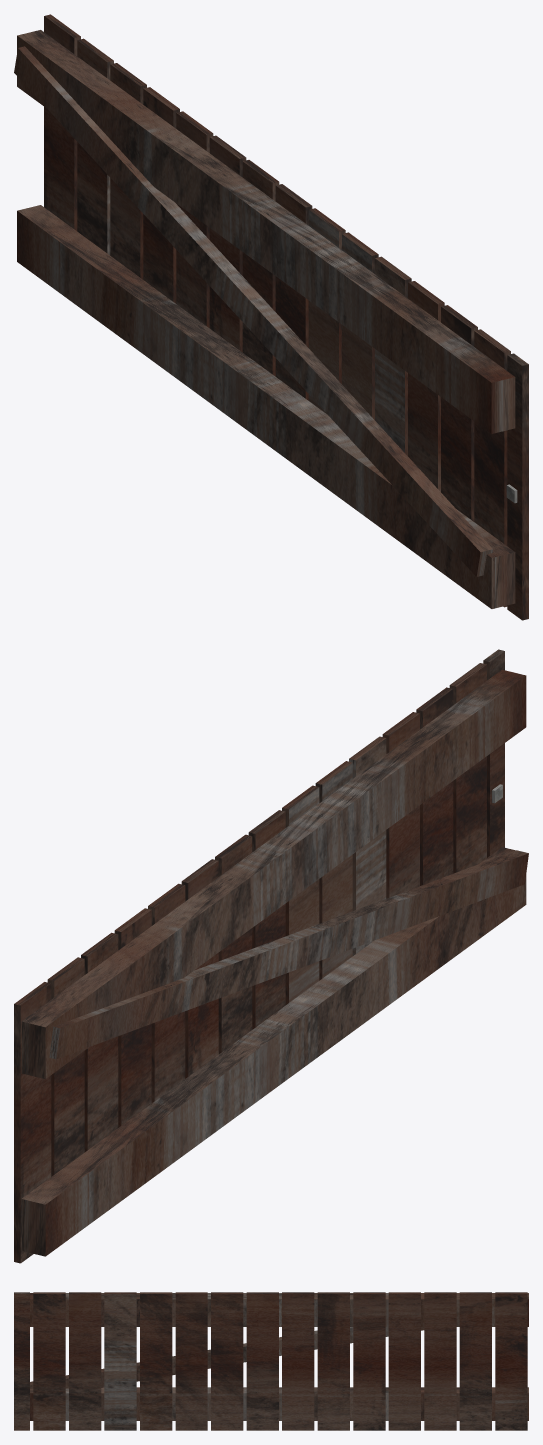
File: PValla3.obj
The picture shows the model from 3 angles, top to bottom: view 1: azimuth 30°, elevation 25°; view 2: azimuth 150°, elevation 25°; view 3: azimuth 270°, elevation 25°; orthographic projection. The views are drawn at different scales.
Visible parts, largest first — view 1: Pvalla3; view 2: Pvalla3; view 3: Pvalla3.
Part boxes in pixels (x1=…): Pvalla3: x1=14, y1=14, x2=528, y2=620; Pvalla3: x1=14, y1=649, x2=528, y2=1263; Pvalla3: x1=14, y1=1292, x2=528, y2=1430.
Size of the model in its own units: 0.232 by 1.44 by 4.91.
2 materials, 2 textured.
